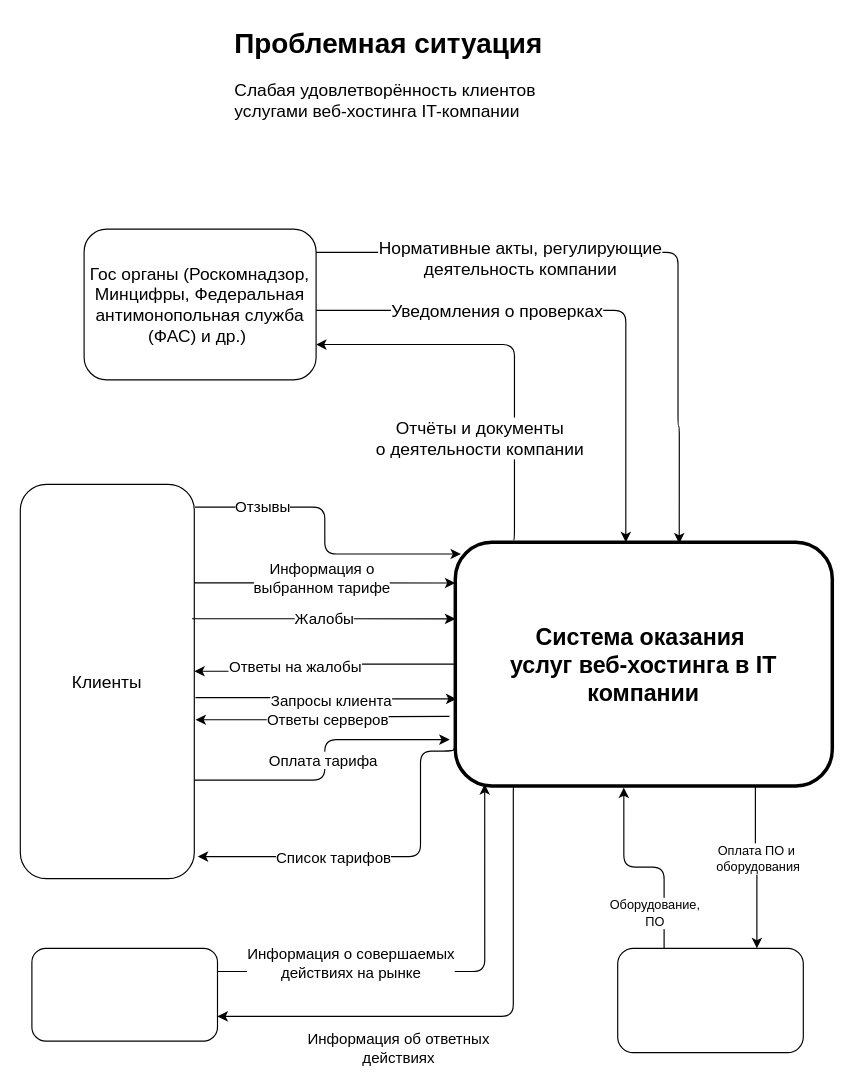
Some shapes in this 854 by 1086 pixel diagram are drawn without their labels. The box of each missing label's shape, as (x1, y1, x2, y2) in pixels:
Компании-конкуренты: (31, 947, 217, 1041)
Поставщики ПО и оборудования: (617, 947, 803, 1053)
